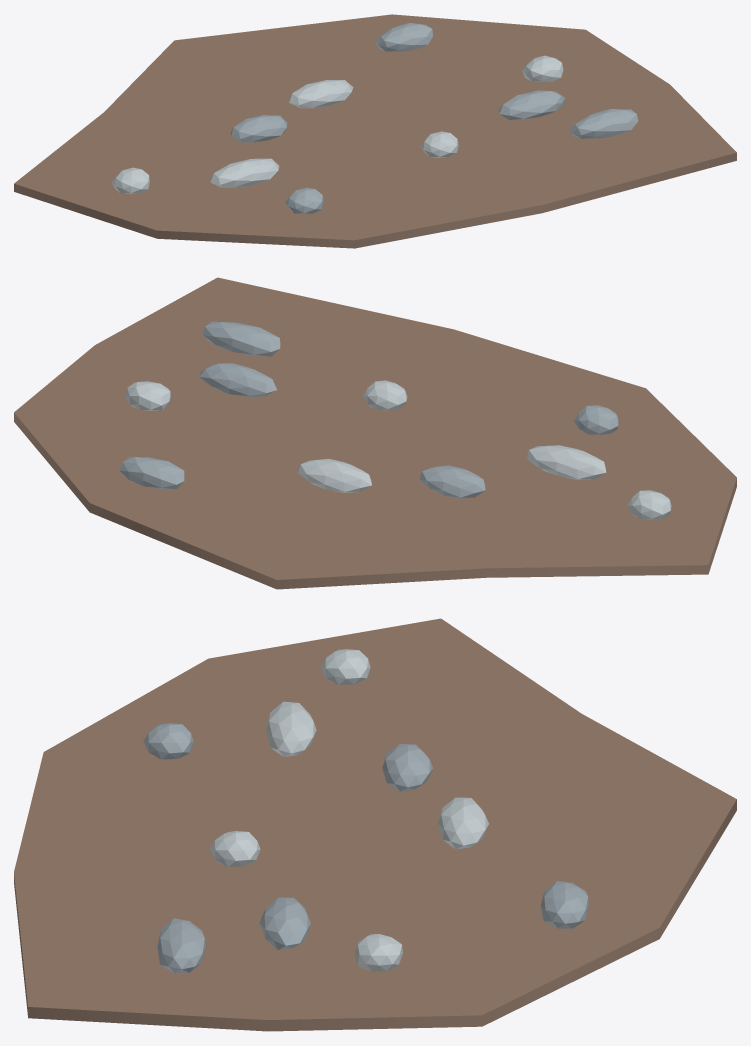
The model's file is patch-gravel-clean.glb.
3 views of the same model, one above another, from view 1: azimuth 30°, elevation 25°; view 2: azimuth 150°, elevation 25°; view 3: azimuth 270°, elevation 25° (orthographic). The views are drawn at different scales.
Parts seen in each view (by area): view 1: patch-gravel-kit-clean-soil, patch-gravel-kit-clean-stone, patch-gravel-kit-clean-light; view 2: patch-gravel-kit-clean-soil, patch-gravel-kit-clean-stone, patch-gravel-kit-clean-light; view 3: patch-gravel-kit-clean-soil, patch-gravel-kit-clean-stone, patch-gravel-kit-clean-light.
Boxes of the visible parts, x1,y1,x2,y2 form: patch-gravel-kit-clean-soil: [14, 14, 736, 248]; patch-gravel-kit-clean-stone: [231, 23, 638, 214]; patch-gravel-kit-clean-light: [111, 55, 563, 194]; patch-gravel-kit-clean-soil: [14, 277, 736, 589]; patch-gravel-kit-clean-stone: [119, 321, 618, 498]; patch-gravel-kit-clean-light: [125, 380, 671, 519]; patch-gravel-kit-clean-soil: [14, 618, 736, 1031]; patch-gravel-kit-clean-stone: [143, 723, 588, 972]; patch-gravel-kit-clean-light: [209, 649, 488, 971].
Size of the model in its own units: 2.66 by 0.1125 by 2.02.
